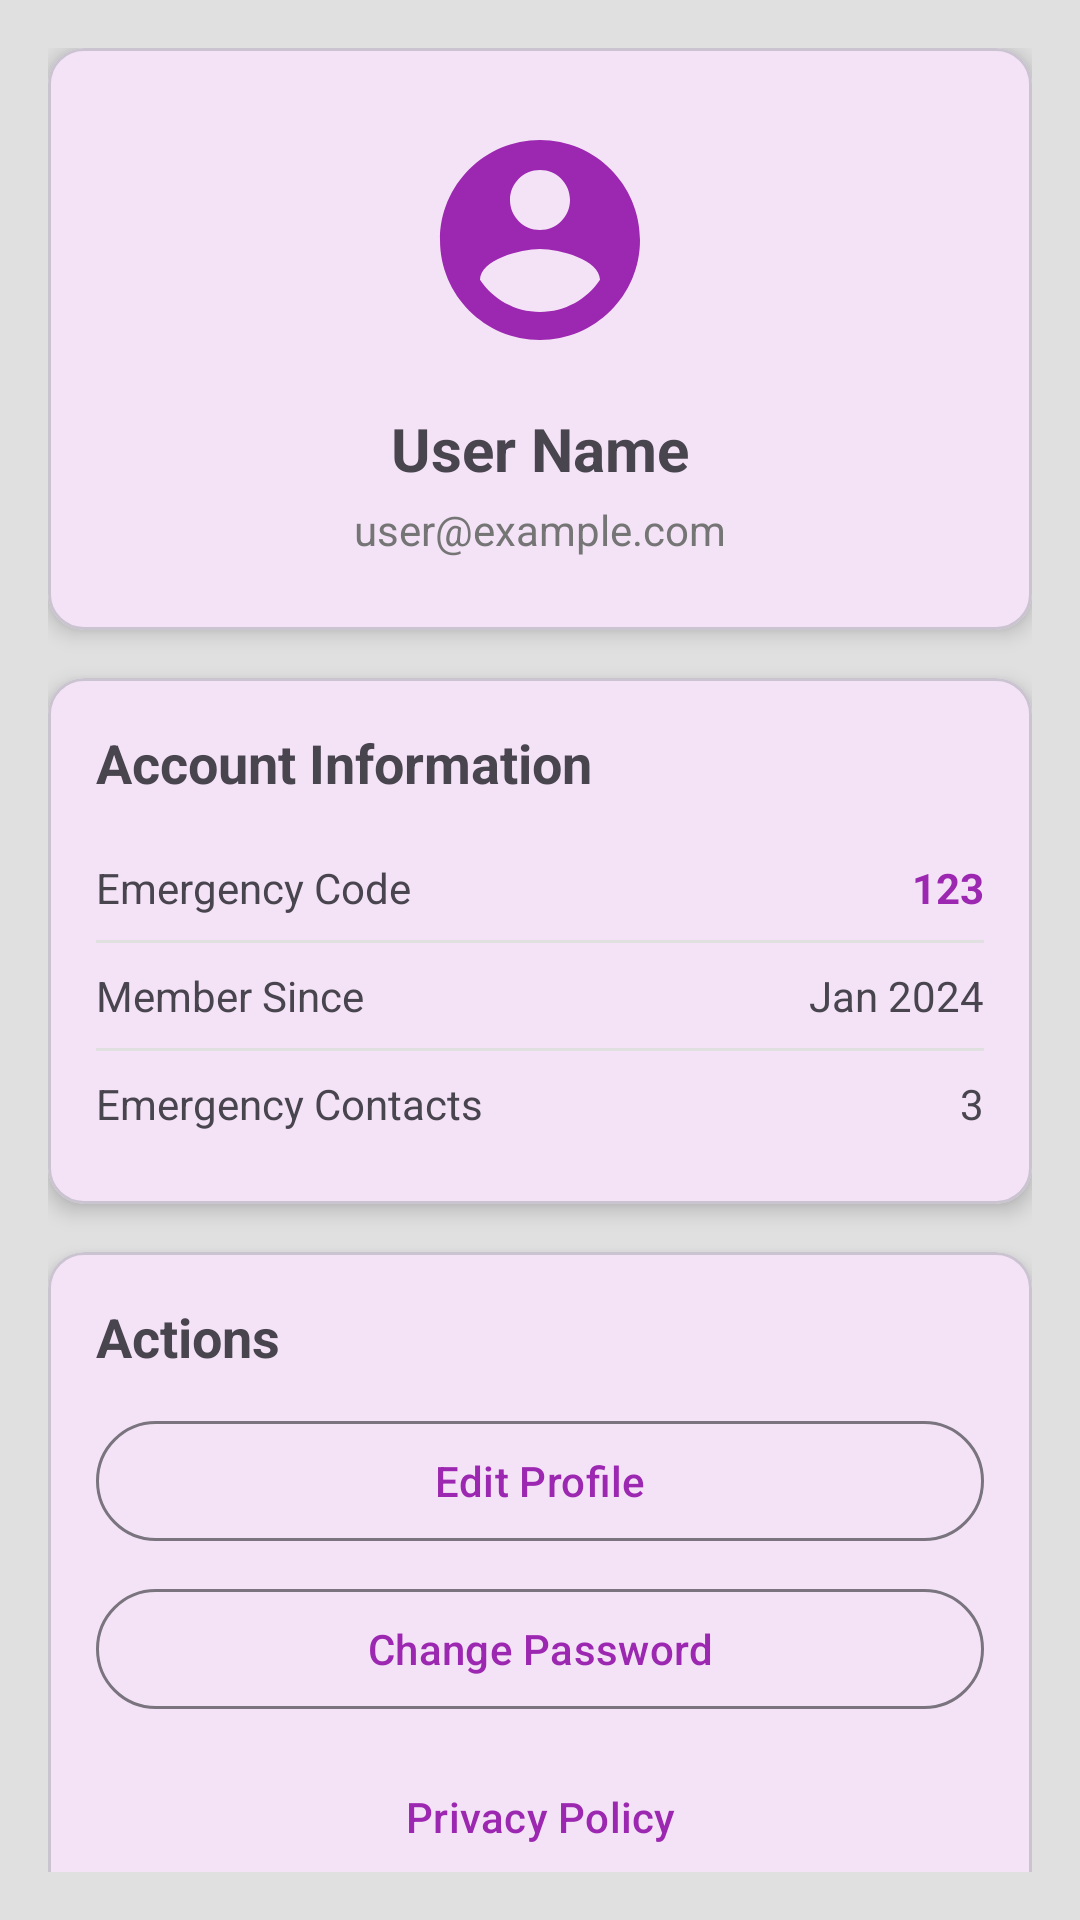

Icon bounding boxes for this 1080*1920 phone screenshot, format (x1, y1, x2, y2):
profile: (440, 140, 640, 340)
